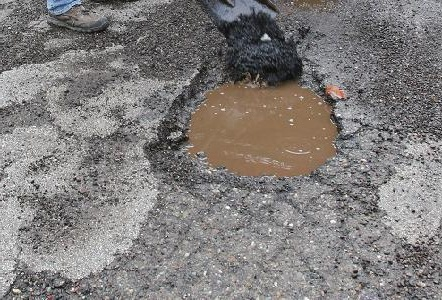pothole: (142, 49, 348, 200)
